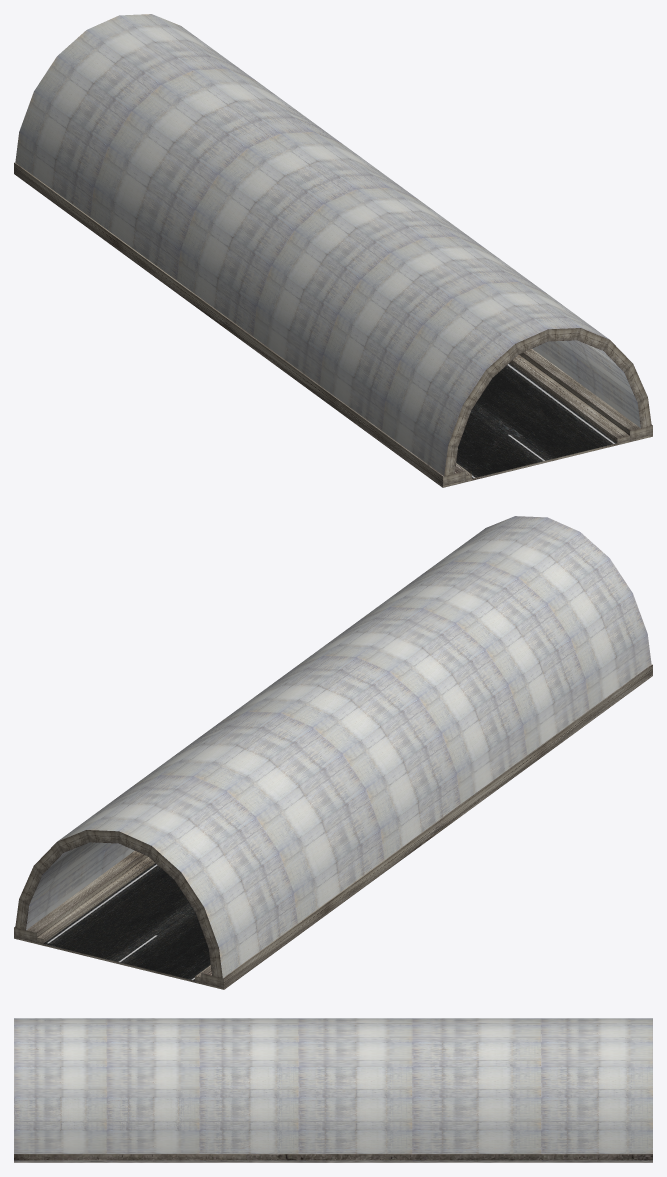
File: Simple Tunnel.fbx
3 renders of one model, top to bottom at view 1: azimuth 30°, elevation 25°; view 2: azimuth 150°, elevation 25°; view 3: azimuth 270°, elevation 25°, orthographic. The views are drawn at different scales.
Visible parts, largest first — view 1: Tunnel, Road; view 2: Tunnel, Road; view 3: Tunnel, Road.
Boxes of the visible parts, box(x1,y1,x2,y2) form: Tunnel: box(15, 14, 651, 476); Road: box(14, 162, 652, 487); Tunnel: box(15, 516, 651, 978); Road: box(14, 664, 652, 989); Tunnel: box(14, 1018, 652, 1161); Road: box(14, 1154, 652, 1162).
Size of the model in its own units: 30.18 by 18.27 by 107.
3 materials, 3 textured.
